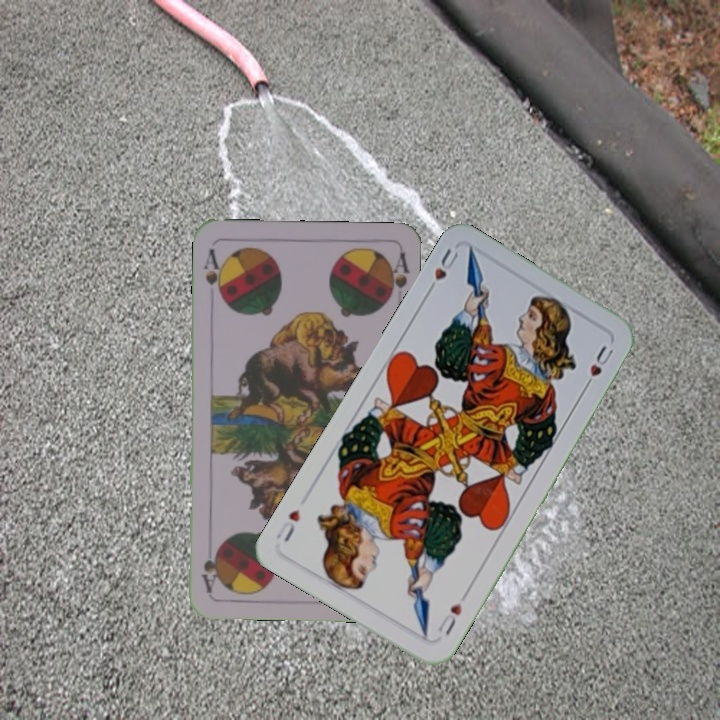HU: (422, 243, 464, 298), (433, 598, 465, 638)
SA: (199, 244, 226, 303)
